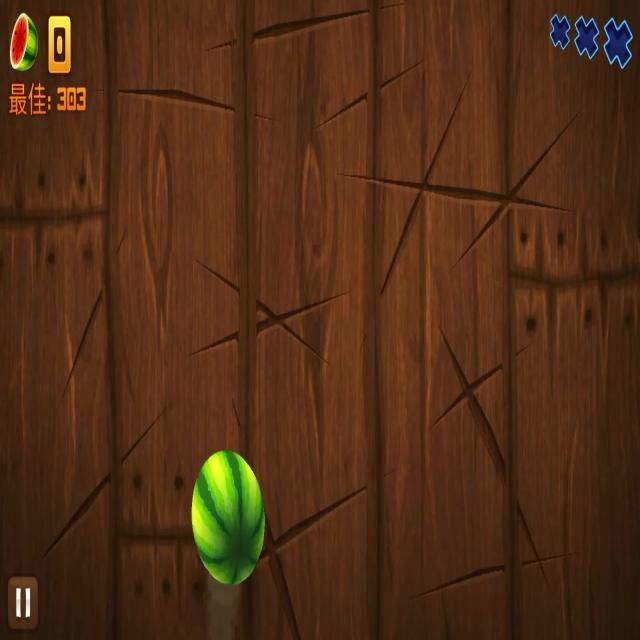fruit: (187, 438, 271, 590)
